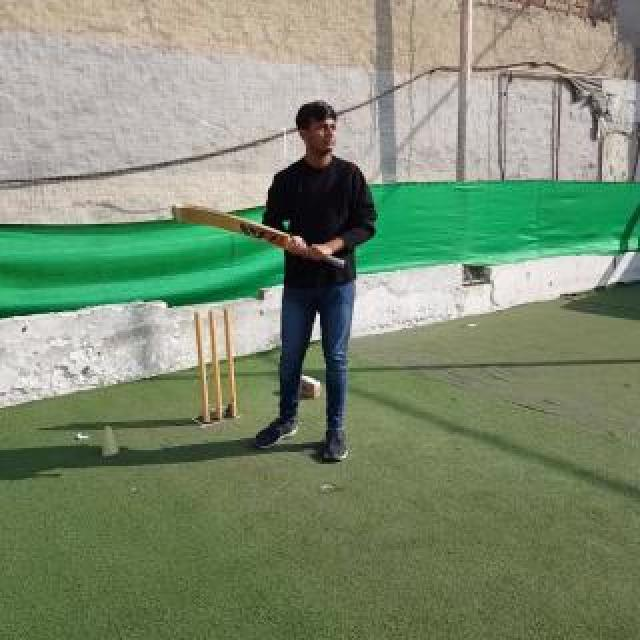bat: (172, 204, 346, 270)
